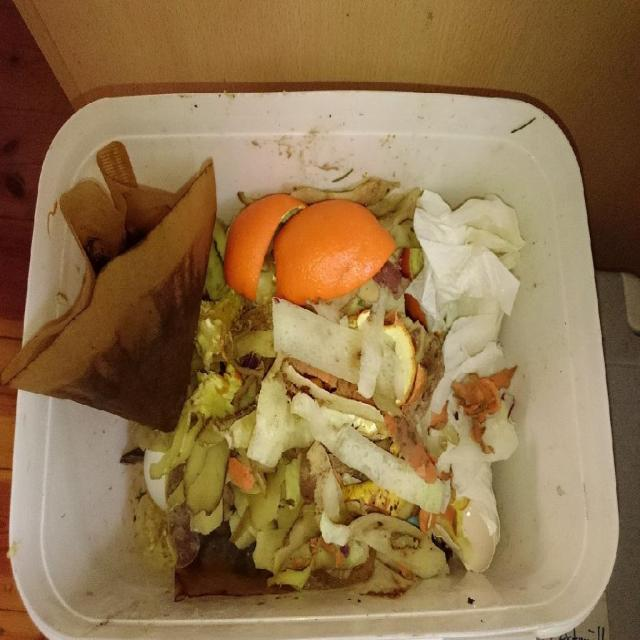Wet: (141, 174, 523, 601)
